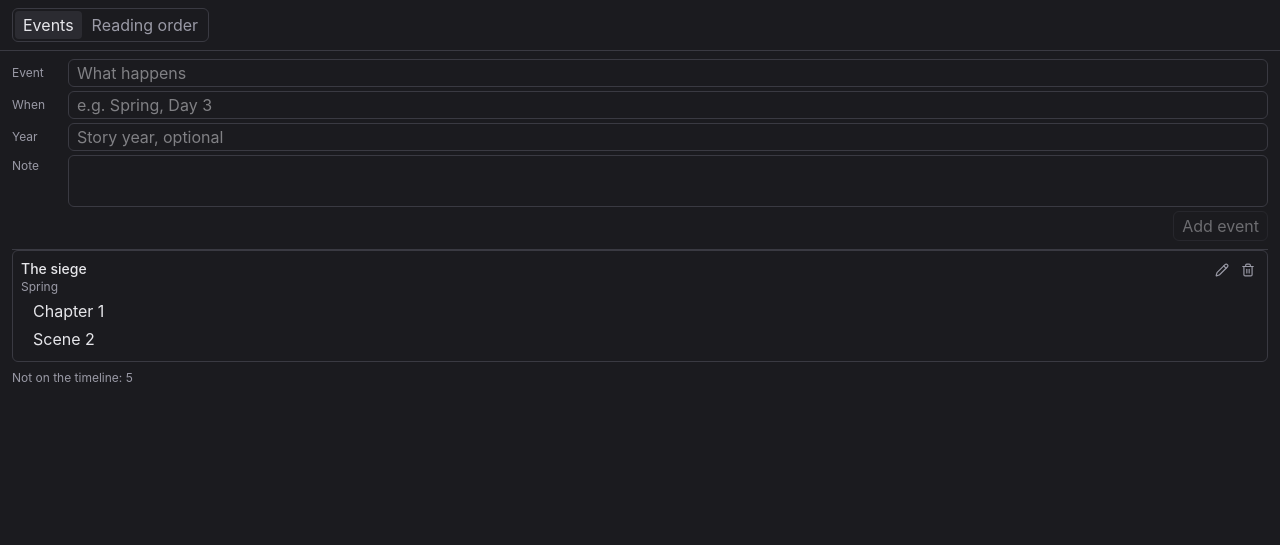
Test case: TimelineTab (F-11.2) › edits an event in place
expect the text "Not on the timeline: 5" is shown: met, box x1=12 y1=370 x2=133 y2=385
Click the button named "Edit The siege" at (1222, 270), box x1=1211 y1=259 x2=1233 y2=281
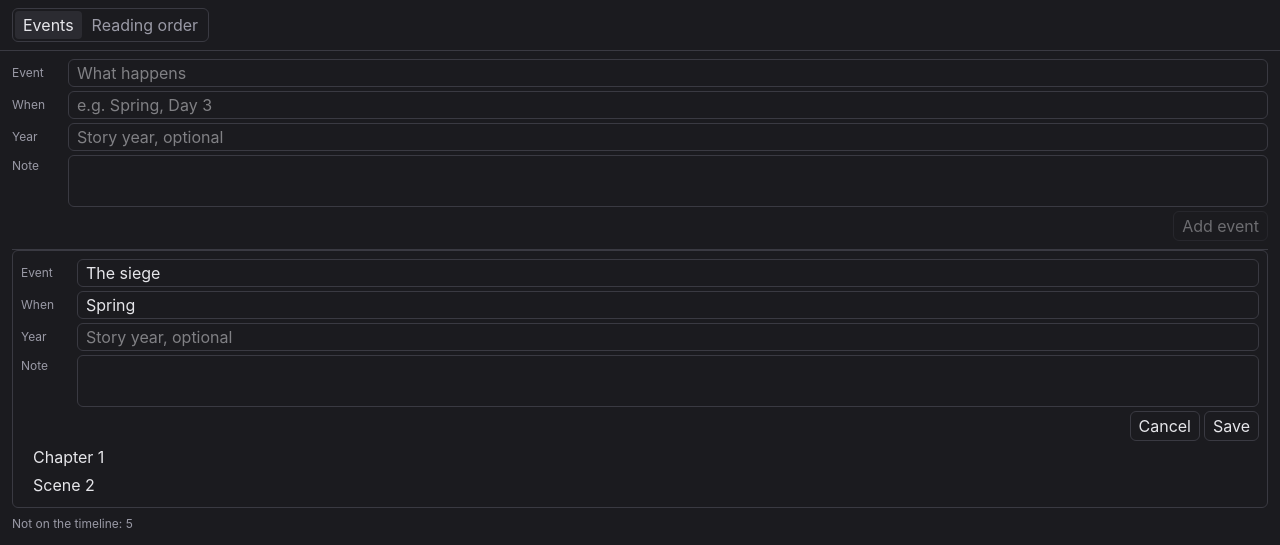
Replace the text in the 2nd field labelled "Event" with "The long siege" at (668, 273), box x1=77 y1=259 x2=1259 y2=287
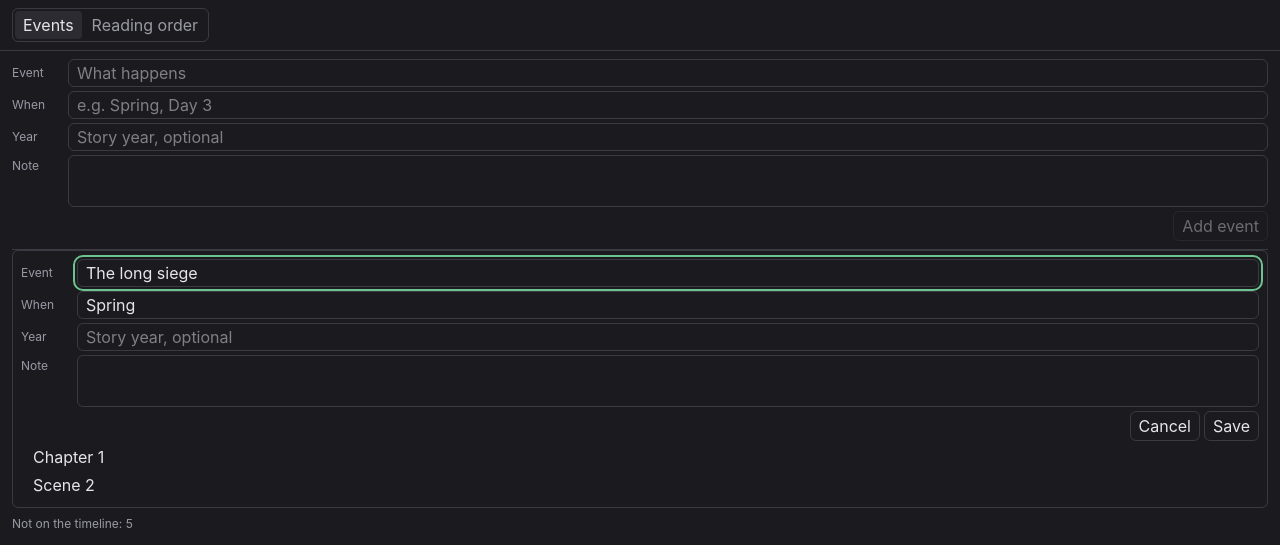
Click the button "Save" at (1232, 426), box x1=1204 y1=411 x2=1259 y2=441
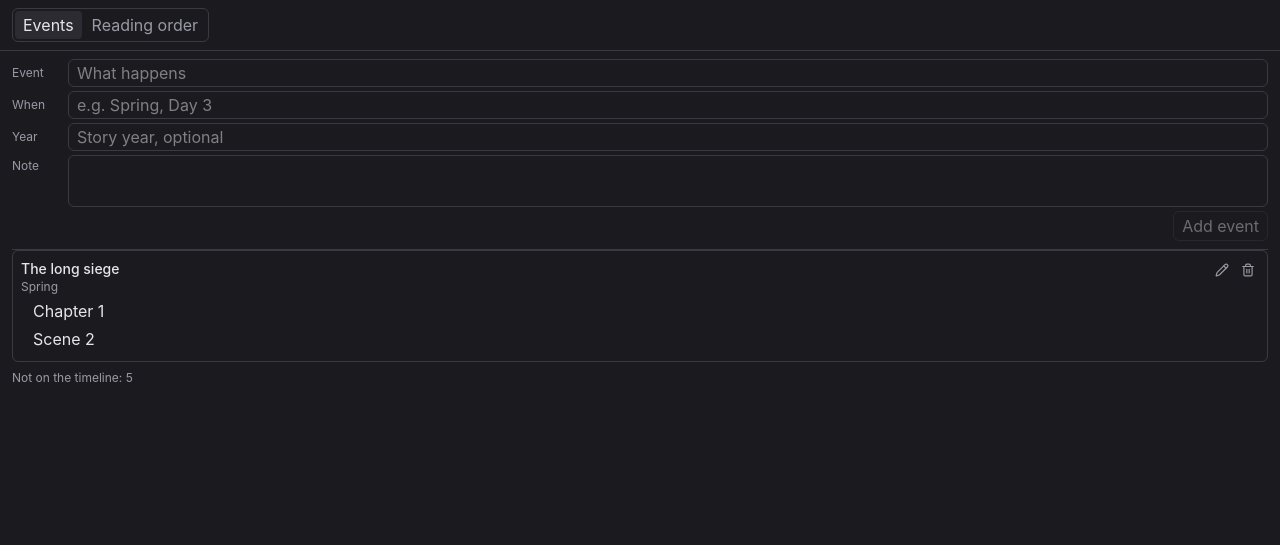
expect the list item with test id "timeline-event" is shown: met, box x1=12 y1=250 x2=1268 y2=362
expect the form "Event When Year Note Cancel Save" is gone: met
